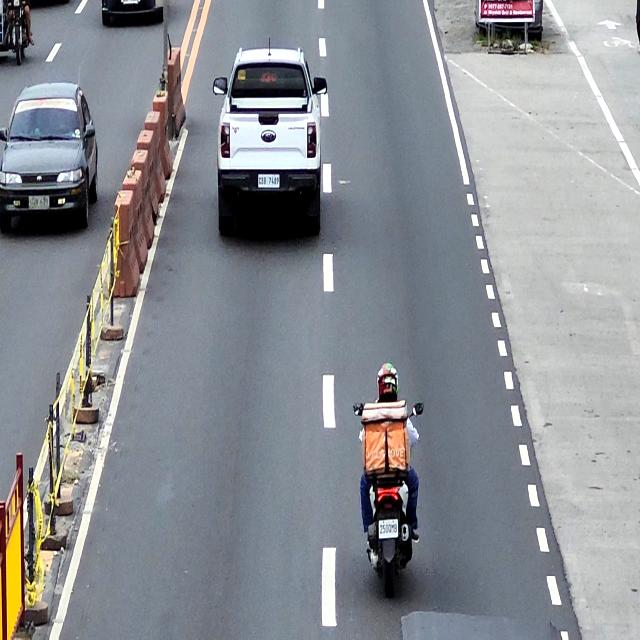Car: (212, 48, 328, 234), (0, 80, 99, 236)
License-Plate: (379, 520, 398, 539), (258, 174, 279, 188), (29, 196, 50, 210)
Motorcycle: (354, 401, 424, 598)
